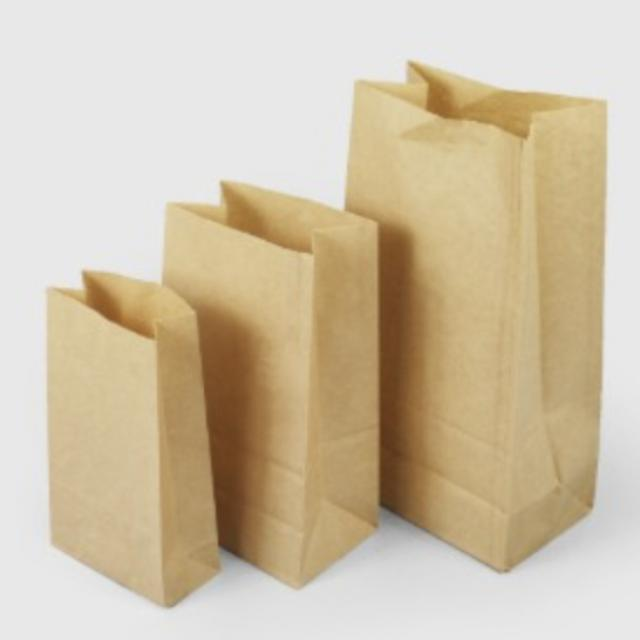biodegradable: (324, 23, 624, 604), (157, 156, 421, 602), (23, 248, 234, 614)
